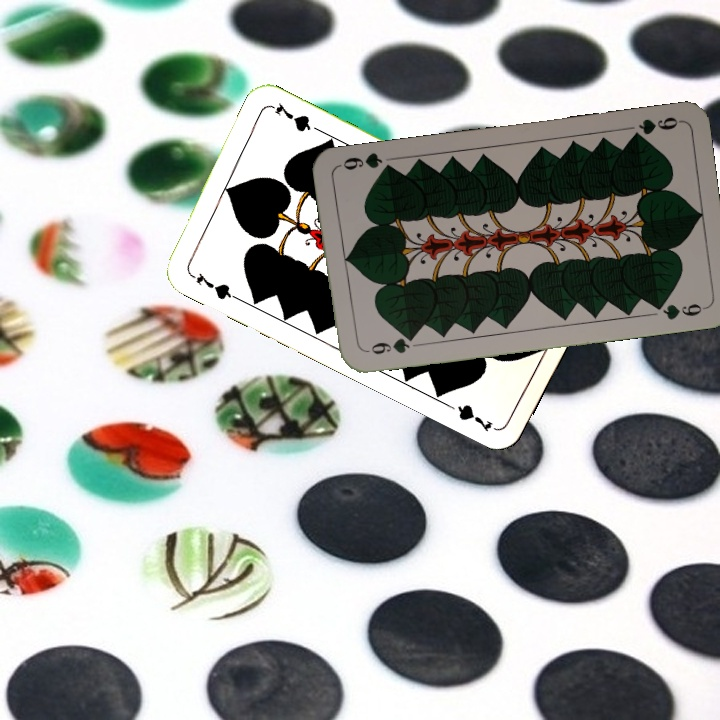G7: (185, 268, 240, 303)
G9: (626, 112, 683, 143), (360, 331, 418, 357)
